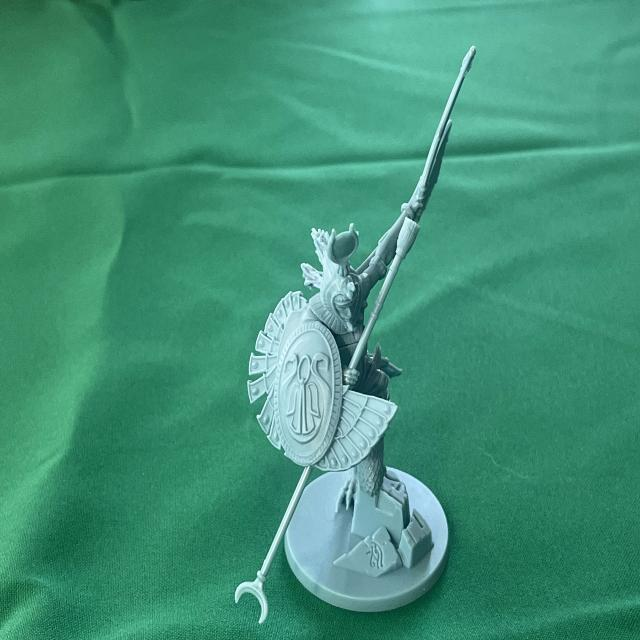isis: (226, 33, 478, 640)
